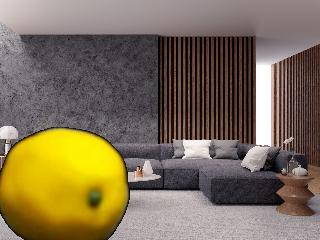lemon: (1, 129, 130, 240)
